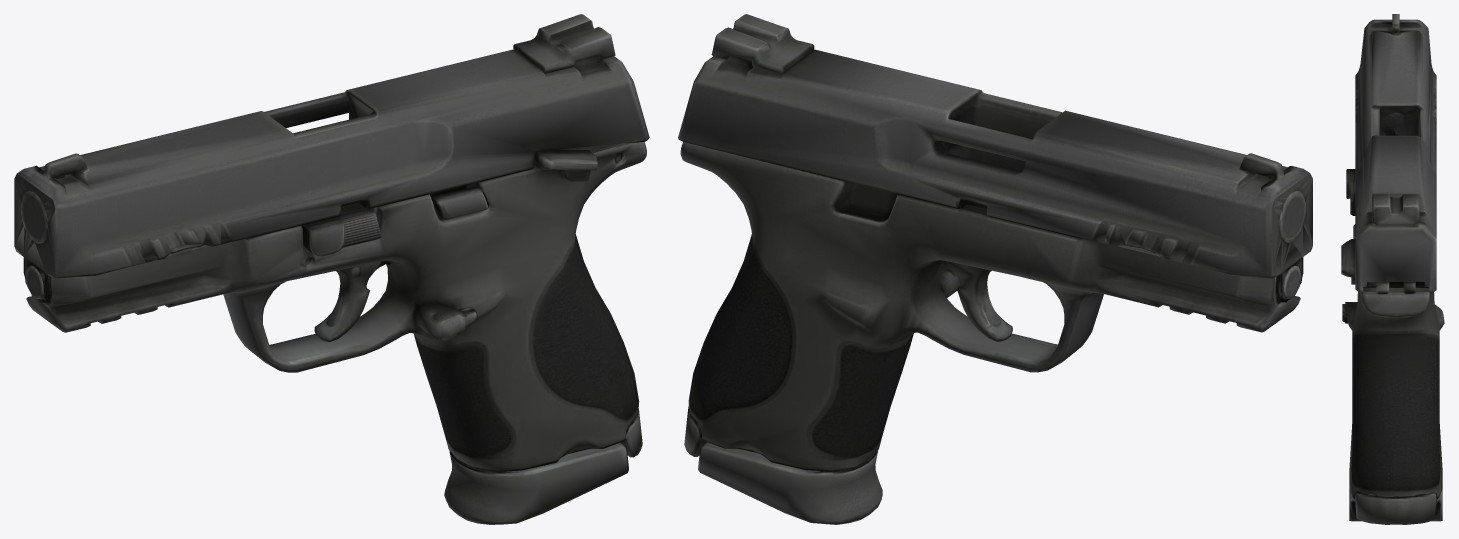
File: pistol.glb
3 views of the same model, side by side, from view 1: azimuth 30°, elevation 25°; view 2: azimuth 150°, elevation 25°; view 3: azimuth 270°, elevation 25° (orthographic). The views are drawn at different scales.
Visible parts, largest first — view 1: tripo_part_0; view 2: tripo_part_0; view 3: tripo_part_0.
Part boxes in pixels (left/top/right/bottom): tripo_part_0: left=14, top=14, right=649, bottom=524; tripo_part_0: left=678, top=14, right=1312, bottom=524; tripo_part_0: left=1341, top=14, right=1444, bottom=524.
Size of the model in its own units: 1 by 0.7299 by 0.2016.
Materials: 1 (1 with a texture image).
